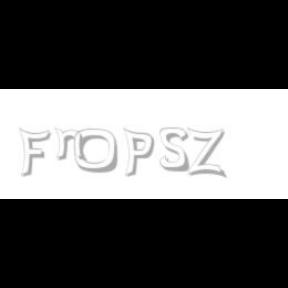F: (18, 128, 50, 178)
O: (74, 128, 118, 174)
P: (122, 128, 154, 178)
S: (160, 128, 190, 172)
Z: (188, 128, 224, 178)
n: (54, 128, 88, 162)
